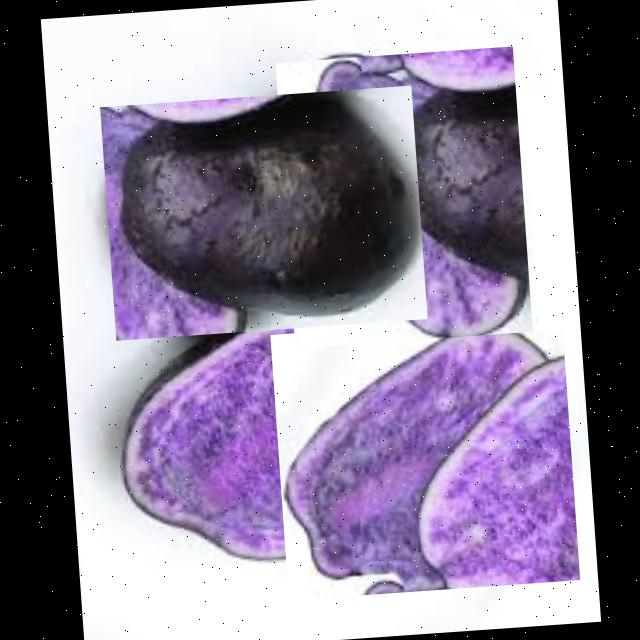Damaged potato: (99, 86, 426, 340)
Defected potato: (107, 292, 444, 570), (269, 314, 579, 600), (274, 46, 531, 348)
